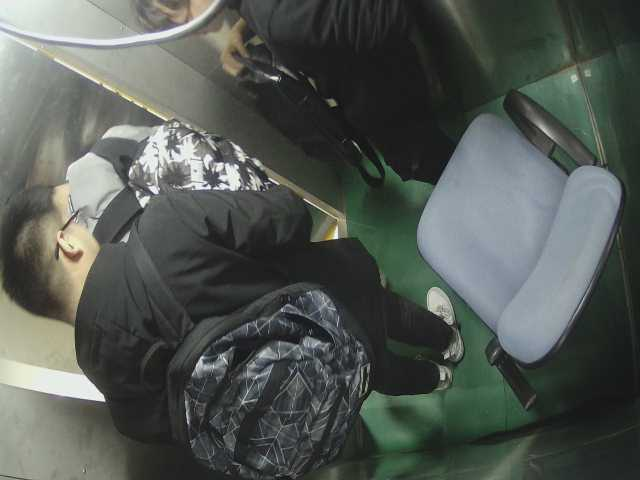bag: (147, 269, 369, 475), (124, 105, 283, 207)
chair: (419, 82, 628, 389)
person: (7, 187, 465, 403)
